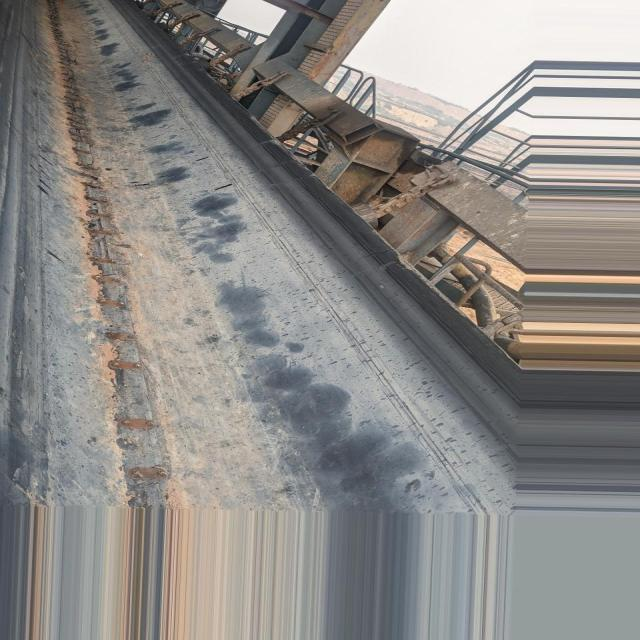patch work: (41, 0, 191, 509)
